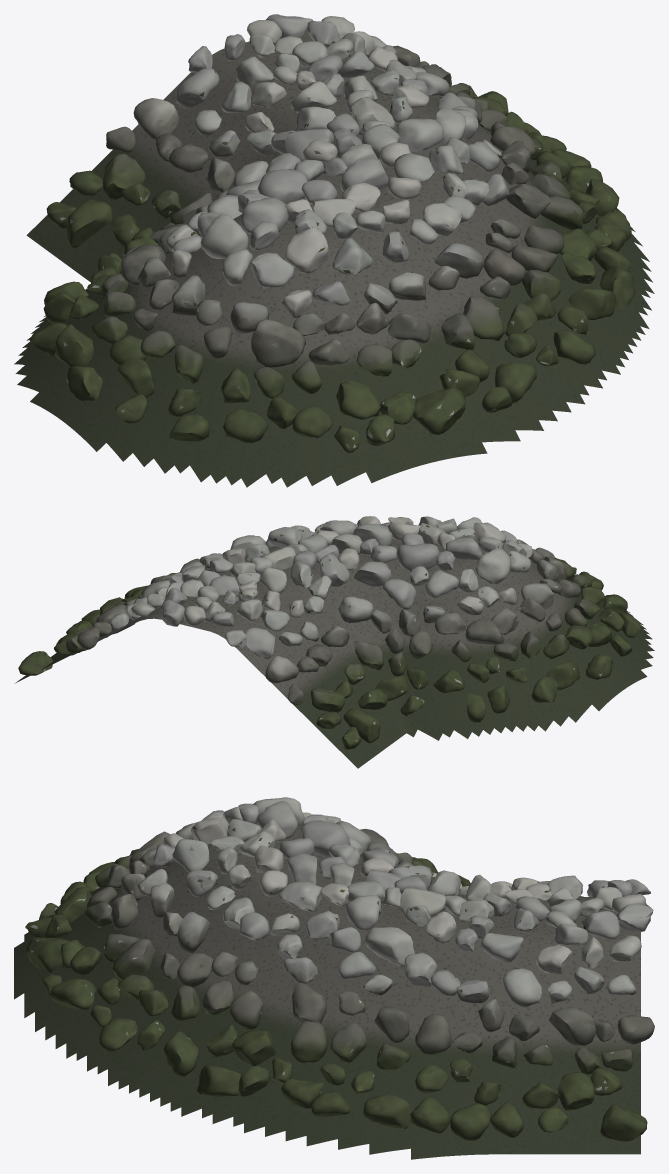
Rendered from Jetty_HeadL.gltf.
The picture shows the model from 3 angles, top to bottom: view 1: azimuth 30°, elevation 25°; view 2: azimuth 150°, elevation 25°; view 3: azimuth 270°, elevation 25°; orthographic projection. The views are drawn at different scales.
Visible parts, largest first — view 1: Jetty_HeadL; view 2: Jetty_HeadL; view 3: Jetty_HeadL.
Boxes of the visible parts, x1,y1,x2,y2 form: Jetty_HeadL: (14, 14, 654, 487); Jetty_HeadL: (15, 516, 654, 768); Jetty_HeadL: (14, 797, 654, 1159).
Bounding box in the file's own units: 19.94 × 5.11 × 18.54.
Materials: 2 (2 with a texture image).
